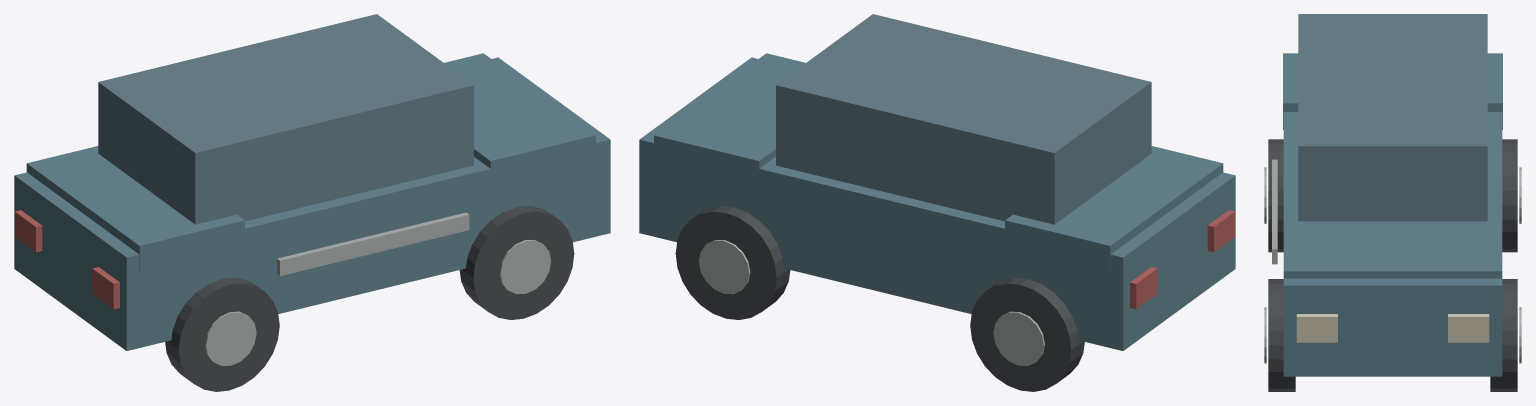
The model's file is fictional_sedan.glb.
3 renders of one model, left to right at view 1: azimuth 30°, elevation 25°; view 2: azimuth 150°, elevation 25°; view 3: azimuth 270°, elevation 25°, orthographic. The views are drawn at different scales.
Parts seen in each view (by area): view 1: m1, m0, m2, m3, m6, m10, m16, m7, m11, m13, m15; view 2: m1, m0, m2, m3, m4, m8, m5, m9, m15, m13; view 3: m1, m0, m3, m8, m10, m2, m4, m6, m12, m14, m16.
Boxes of the visible parts, left/top/right/bottom form: m1: left=98, top=14, right=473, bottom=224; m0: left=14, top=57, right=610, bottom=350; m2: left=26, top=146, right=244, bottom=273; m3: left=444, top=53, right=595, bottom=168; m6: left=165, top=277, right=279, bottom=391; m10: left=459, top=206, right=574, bottom=319; m16: left=277, top=212, right=469, bottom=276; m7: left=205, top=311, right=256, bottom=365; m11: left=499, top=240, right=551, bottom=294; m13: left=14, top=210, right=42, bottom=252; m15: left=92, top=267, right=119, bottom=309; m1: left=776, top=14, right=1151, bottom=224; m0: left=639, top=57, right=1235, bottom=350; m2: left=1005, top=146, right=1223, bottom=273; m3: left=654, top=53, right=805, bottom=180; m4: left=970, top=277, right=1084, bottom=391; m8: left=675, top=206, right=790, bottom=319; m5: left=993, top=311, right=1044, bottom=365; m9: left=698, top=240, right=750, bottom=294; m15: left=1207, top=210, right=1235, bottom=252; m13: left=1130, top=267, right=1157, bottom=309; m1: left=1298, top=14, right=1487, bottom=221; m0: left=1283, top=112, right=1502, bottom=376; m3: left=1283, top=221, right=1502, bottom=278; m8: left=1490, top=279, right=1517, bottom=391; m10: left=1268, top=279, right=1295, bottom=391; m2: left=1283, top=53, right=1502, bottom=129; m4: left=1502, top=139, right=1517, bottom=252; m6: left=1268, top=139, right=1283, bottom=252; m12: left=1448, top=314, right=1489, bottom=342; m14: left=1296, top=314, right=1337, bottom=342; m16: left=1272, top=159, right=1277, bottom=264.
Size of the model in its own units: 4.72 by 2.1 by 2.18.
